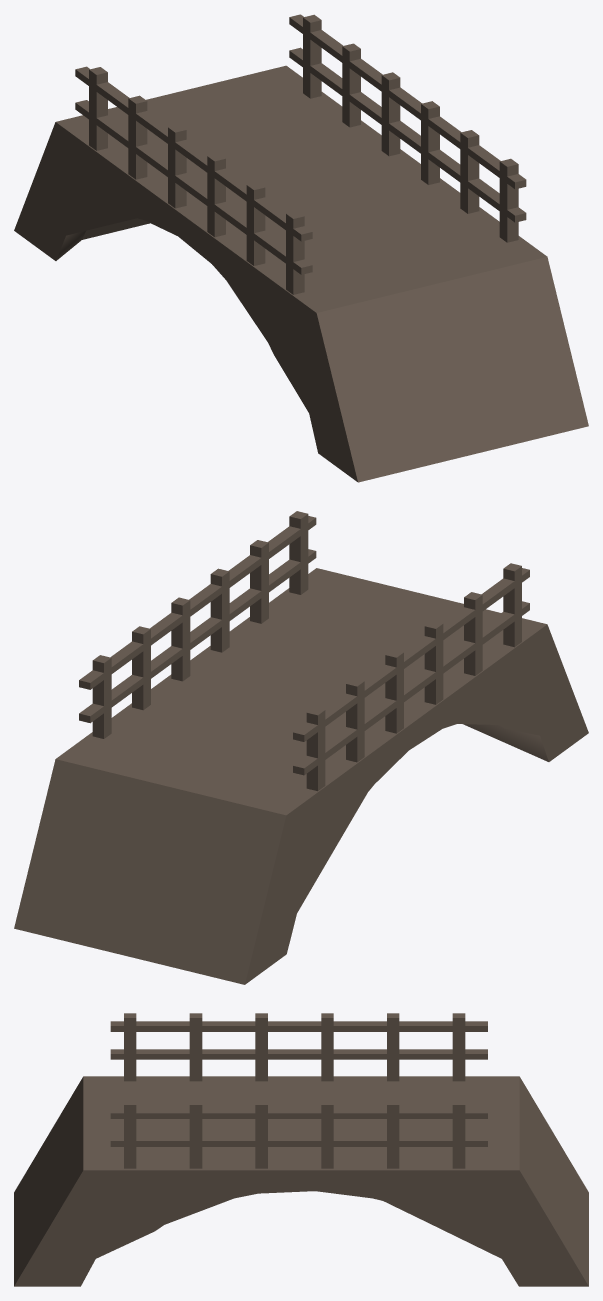
File: puente.fbx
3 renders of one model, top to bottom at view 1: azimuth 30°, elevation 25°; view 2: azimuth 150°, elevation 25°; view 3: azimuth 270°, elevation 25°, orthographic. The views are drawn at different scales.
Parts seen in each view (by area): view 1: puente; view 2: puente; view 3: puente.
Part boxes in pixels (box(x1,y1,x2,y2)): puente: box(14, 14, 588, 482); puente: box(14, 511, 588, 984); puente: box(14, 1013, 588, 1286).
Size of the model in its own units: 1 by 0.8902 by 2.58.
